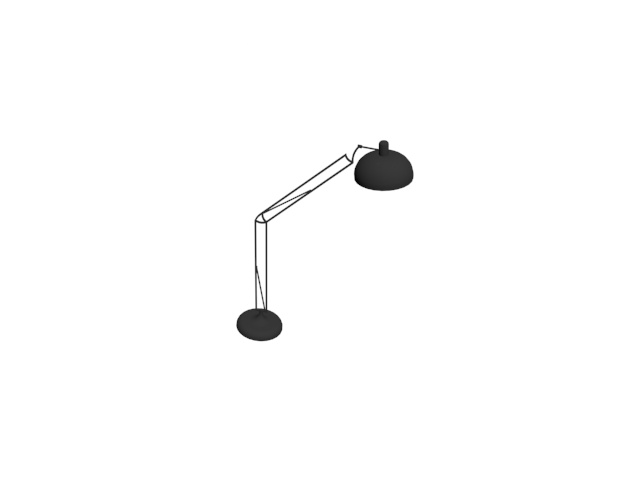desk_lamp: (233, 137, 416, 344)
